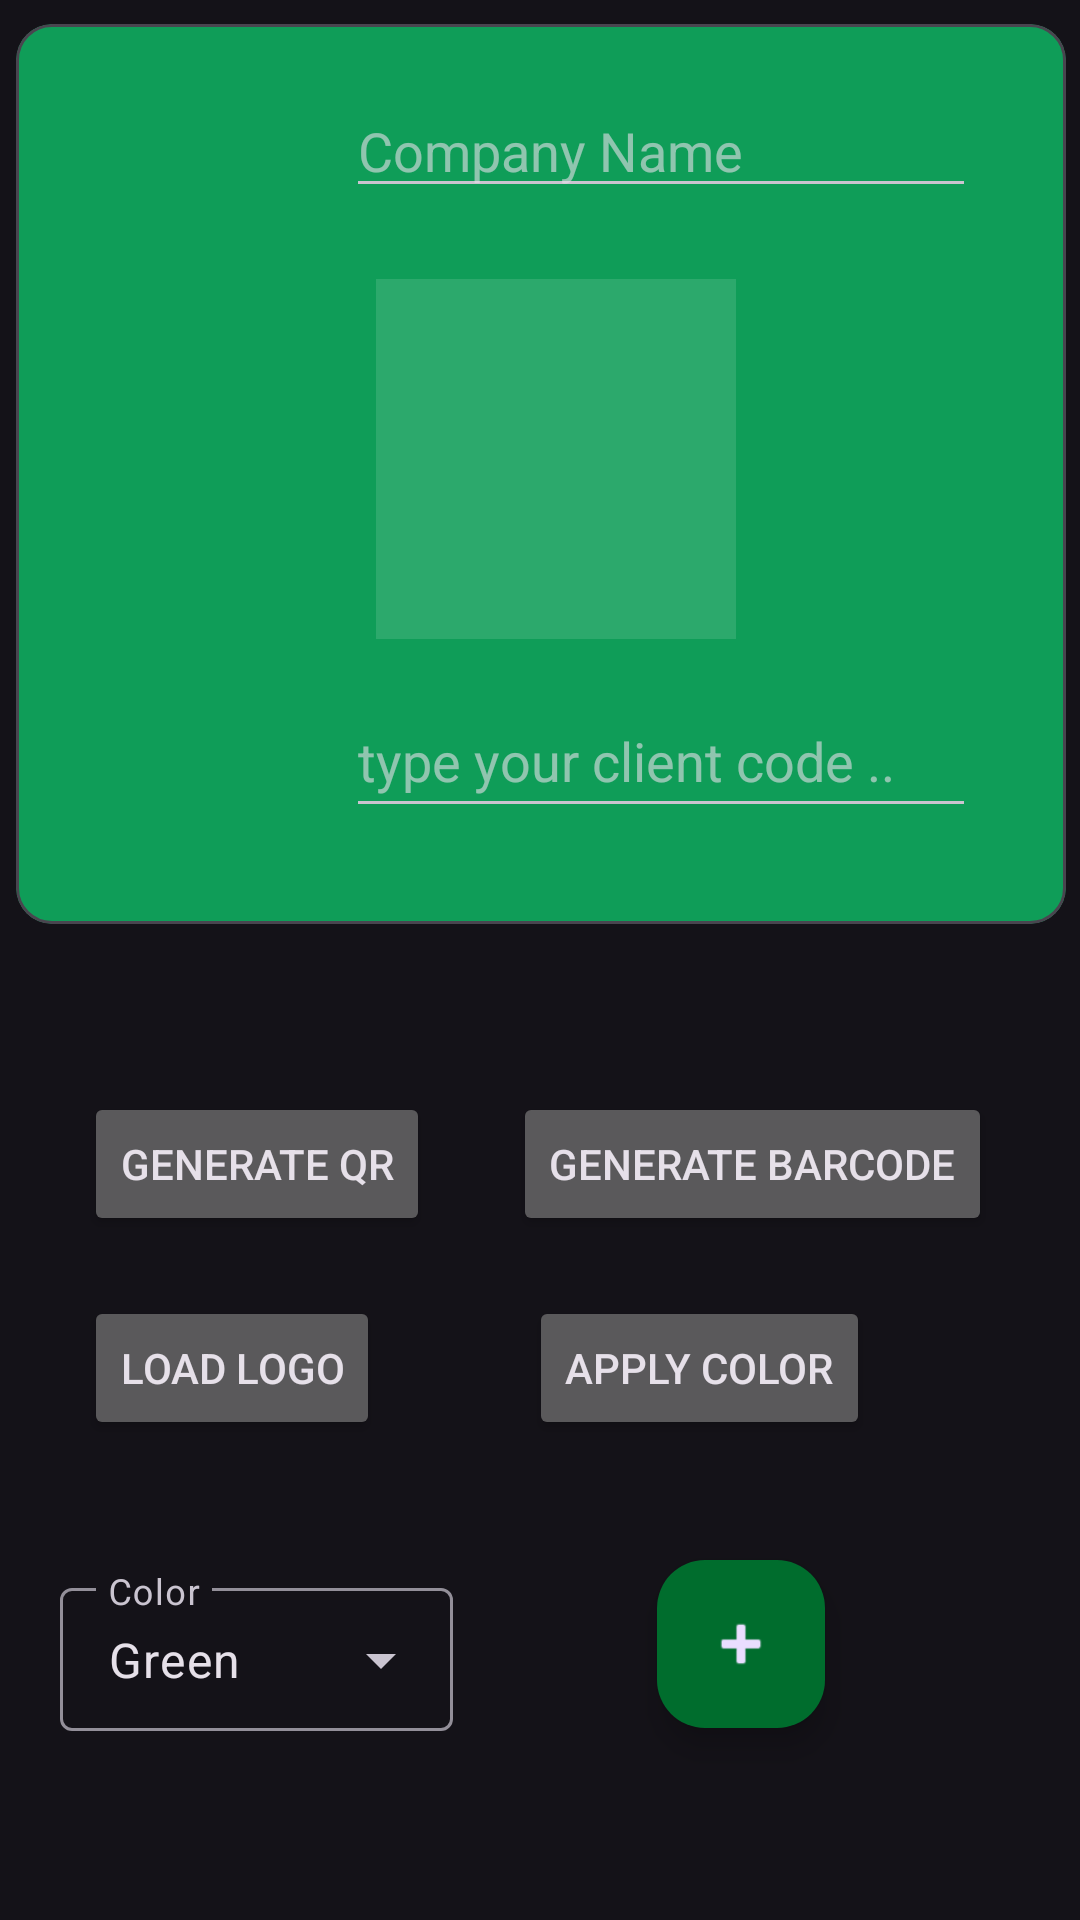

Icons on this 1080x1920 Android screen, each with the point to tap as [x,y]:
add: [741,1644]
